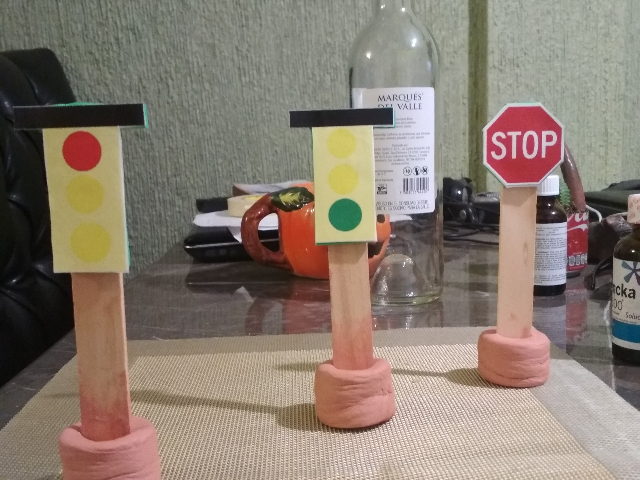Green: (286, 104, 397, 243)
Red: (9, 101, 150, 280)
Stop: (479, 99, 568, 187)
